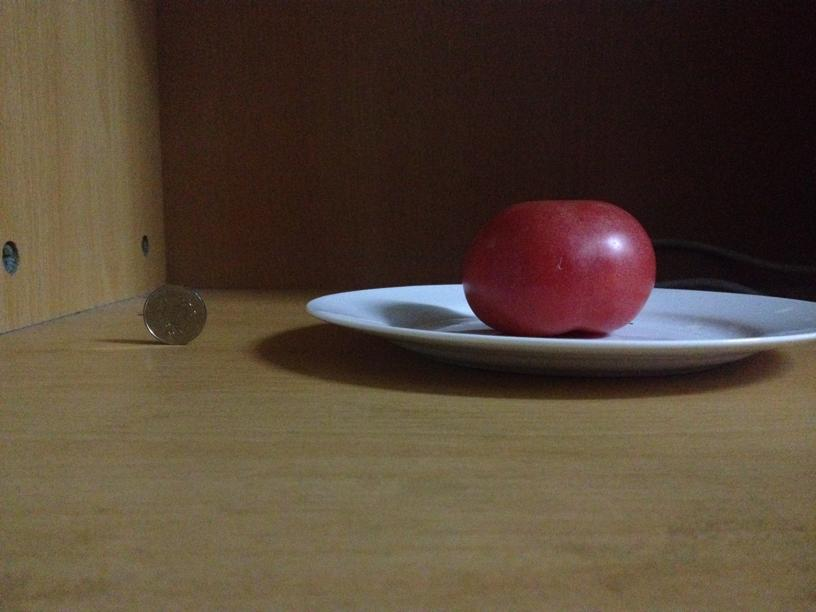coin: (143, 284, 208, 344)
tomato: (118, 231, 186, 291)
